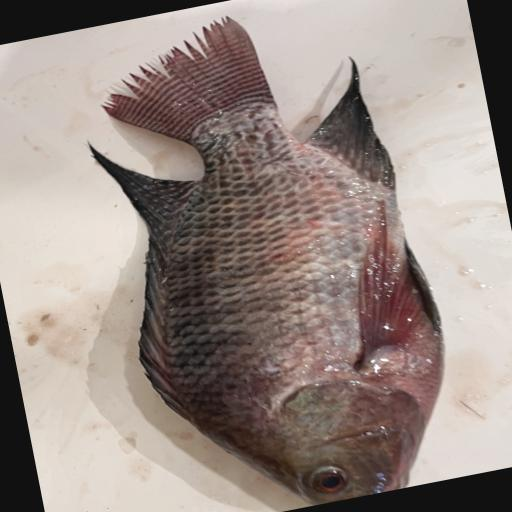Tilapia: (66, 0, 469, 512)
